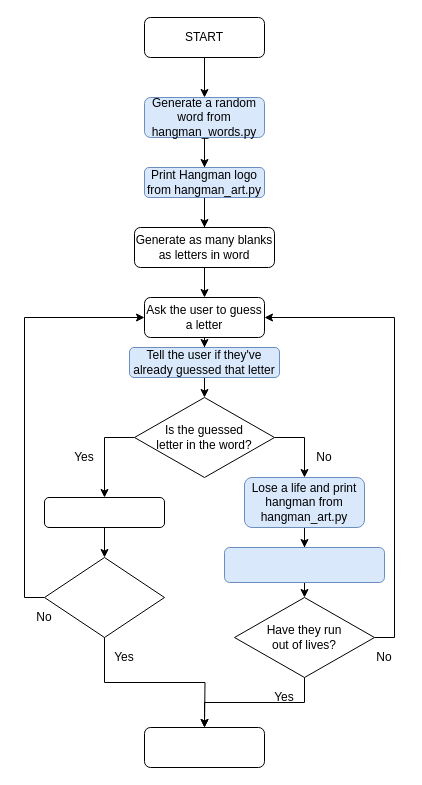
Some shapes in this 422 by 785 pixel diagram are drawn without their labels. Each missing label, with the box of its shape:
Are all the blanks filled?: (44, 556, 164, 638)
GAME OVER: (144, 726, 264, 768)
Replace the blank with the letter: (44, 496, 164, 528)
Tell the user the letter they chose is not in the word.: (224, 546, 384, 582)
